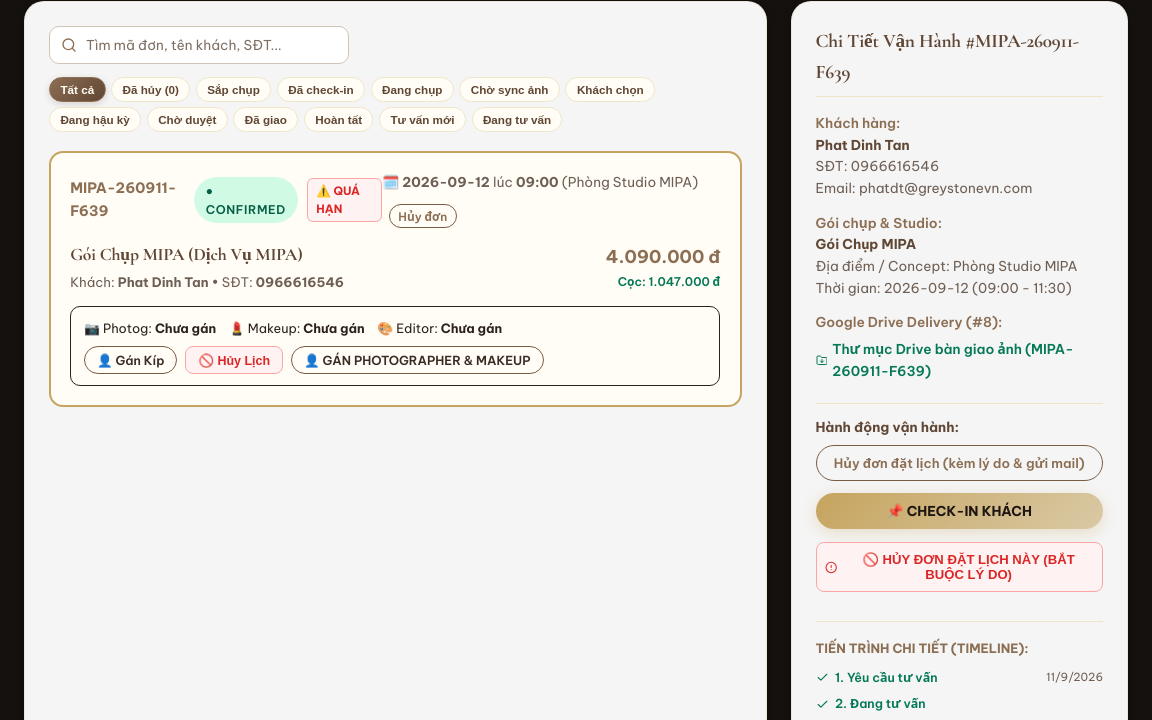
it: ManagerDashboard - Staff Assignment Modal & Employee Resolution › 1. opens modal with rich booking context and close button without text clipping
The width and height of the screenshot is (1152, 720).
(page scrolled)
# Click "Gán Kíp" button on the booking card
Click the button "👤 Gán Kíp": [131, 360] box left=84, top=346, right=177, bottom=374
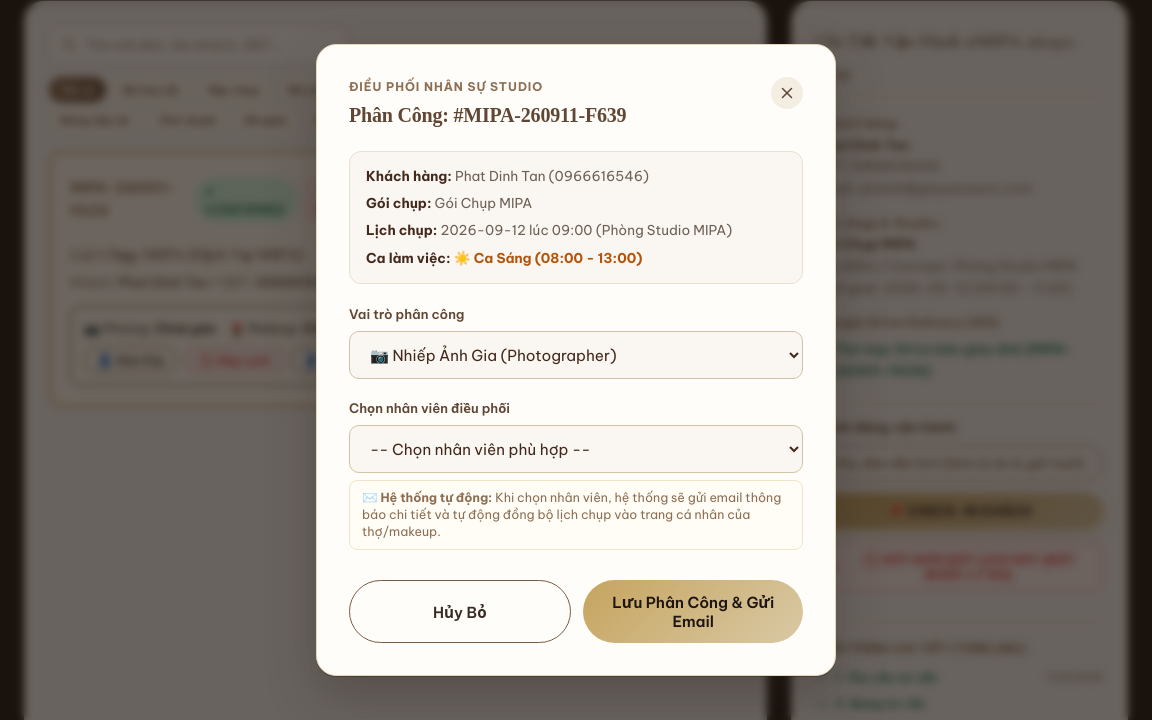
Expected: the text "0966616546" is shown, left=256, top=274, right=344, bottom=290
Expected: the heading "Phân Công: #MIPA-260911-F639" is shown, left=349, top=99, right=626, bottom=131
Expected: the text "ĐIỀU PHỐI NHÂN SỰ STUDIO" is shown, left=349, top=79, right=543, bottom=94
# Close button (X) closes modal
Click the button named "Đóng cửa sổ": [787, 93] box left=771, top=77, right=803, bottom=109
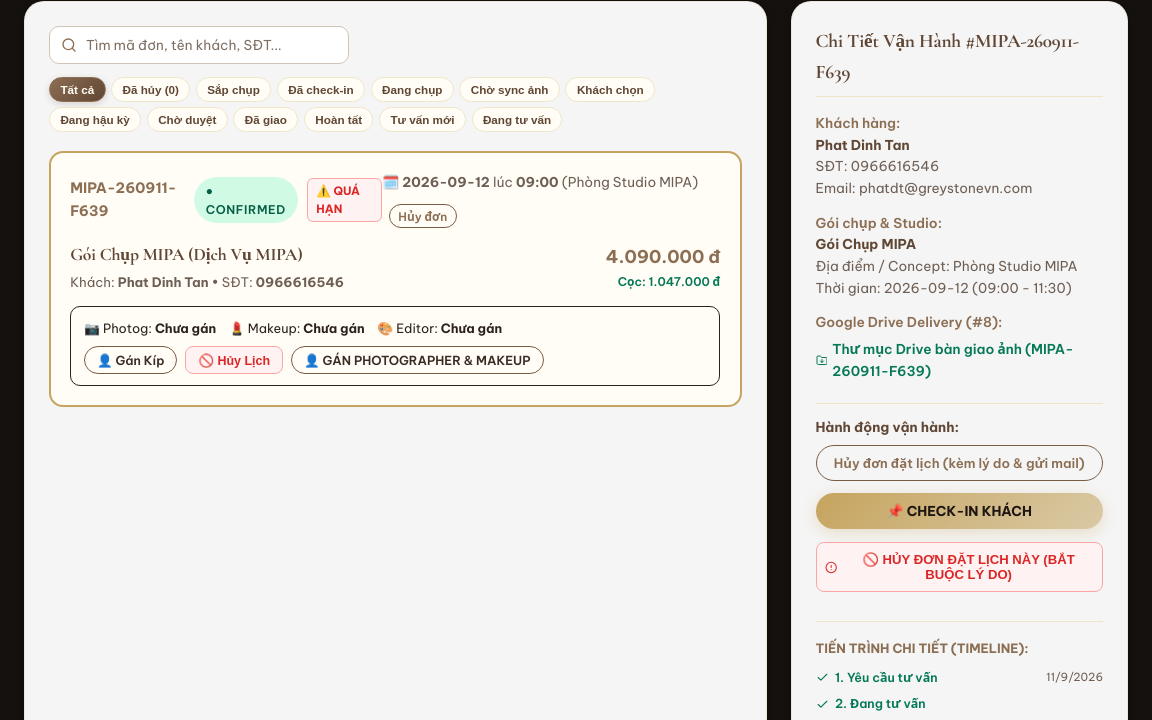
Expected: the text "ĐIỀU PHỐI NHÂN SỰ STUDIO" is gone
